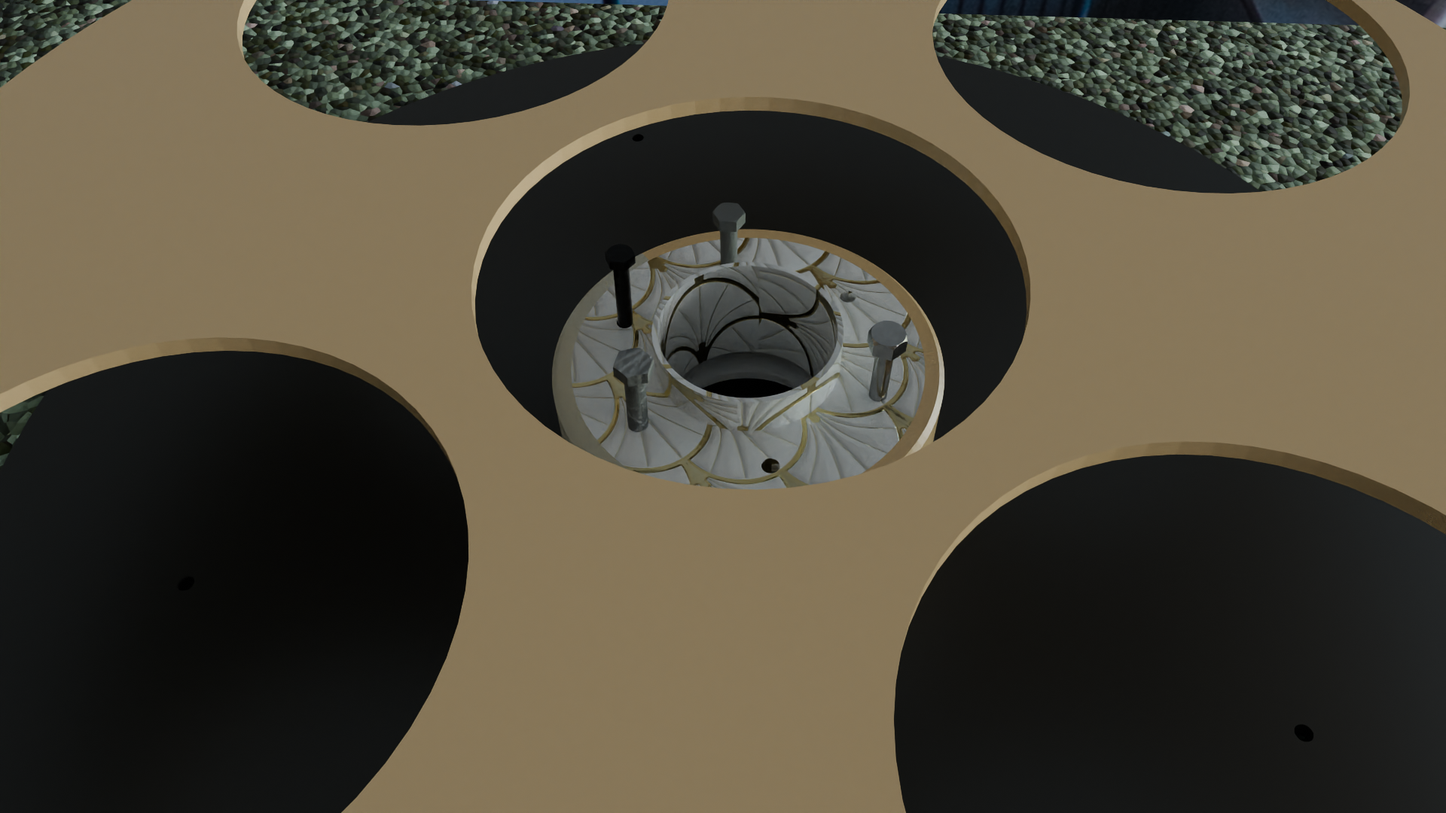bolt: (868, 321, 908, 351), (613, 348, 653, 378), (712, 202, 746, 223), (605, 244, 635, 263)
